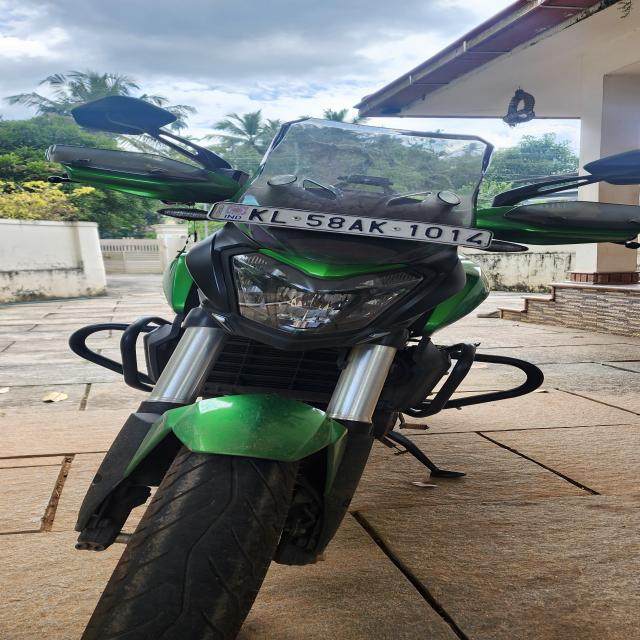headlight: (227, 252, 425, 336)
